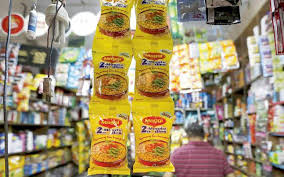maggie: (88, 106, 130, 173), (133, 106, 174, 172), (91, 51, 130, 102), (135, 49, 171, 102)
